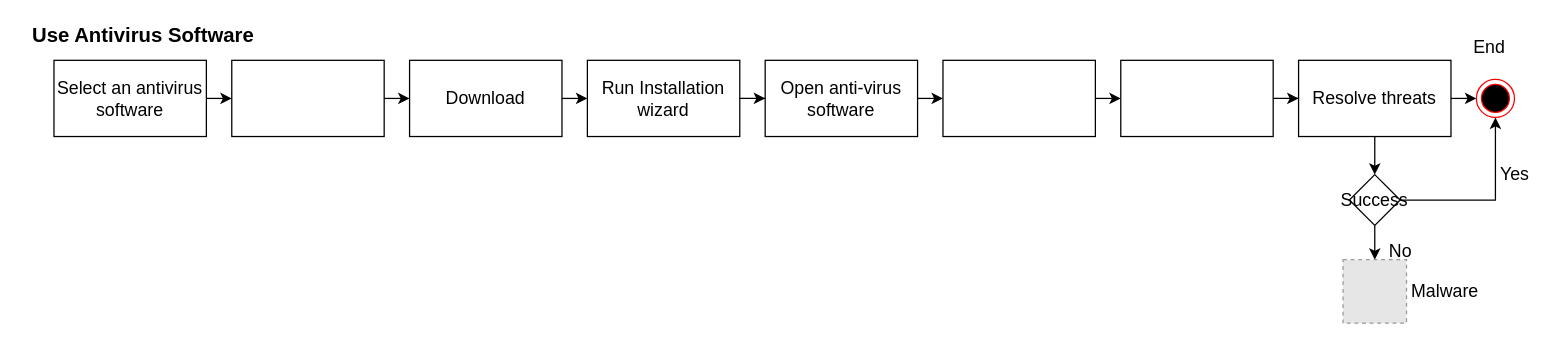
Some shapes in this 1561 by 345 pixel diagram are drawn without their labels. Grey dashed boxes stand in for pictures. Each missing label, with the centre of its shape:
"Activate scan options" goes at [1018,98].
"Run a scan" goes at [1196,98].
"Visit the software provider's web page" goes at [307,98].
